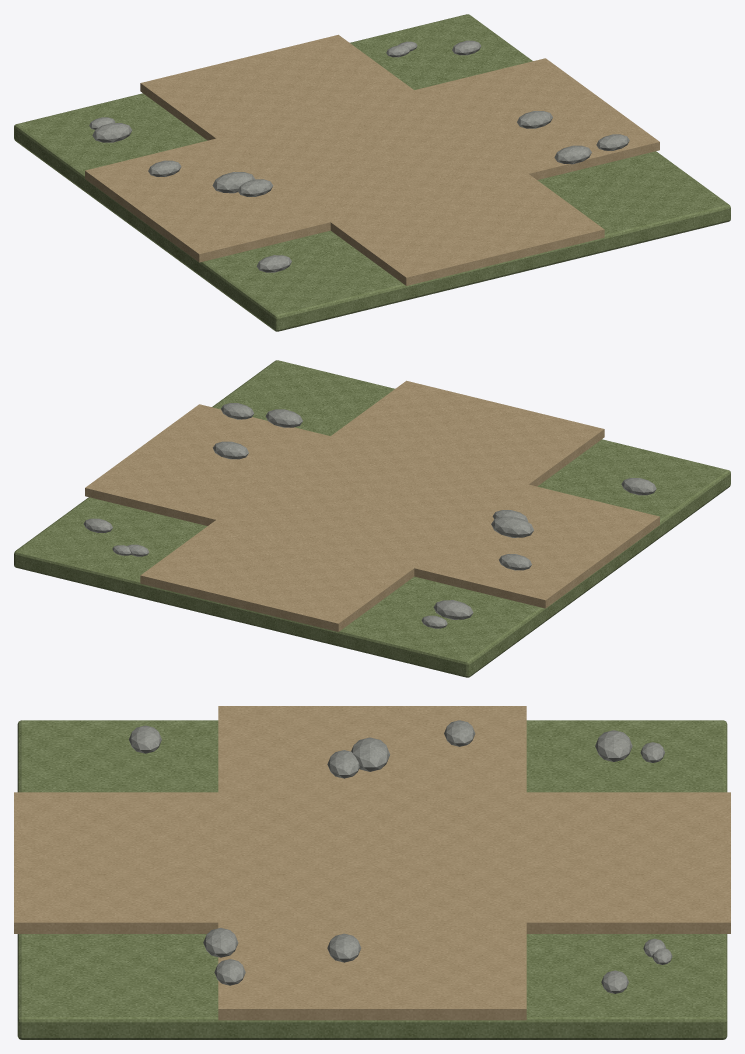
The model's file is ROAD_DIRT_1x1_CROSS.glb.
3 renders of one model, top to bottom at view 1: azimuth 30°, elevation 25°; view 2: azimuth 150°, elevation 25°; view 3: azimuth 270°, elevation 25°, orthographic. The views are drawn at different scales.
Parts seen in each view (by area): view 1: ROAD_DIRT_1x1_CROSS_Visual; view 2: ROAD_DIRT_1x1_CROSS_Visual; view 3: ROAD_DIRT_1x1_CROSS_Visual.
Part boxes in pixels (x1=…): ROAD_DIRT_1x1_CROSS_Visual: x1=14, y1=14, x2=730, y2=331; ROAD_DIRT_1x1_CROSS_Visual: x1=14, y1=360, x2=730, y2=677; ROAD_DIRT_1x1_CROSS_Visual: x1=14, y1=706, x2=730, y2=1039.
Size of what is drawn, in the model's own units: 2 by 0.1737 by 2.
Materials: 3 (3 with a texture image).
